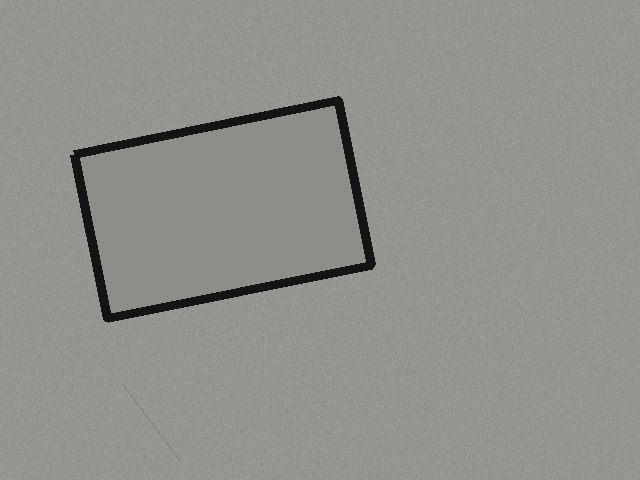parking_area: (74, 100, 371, 318)
